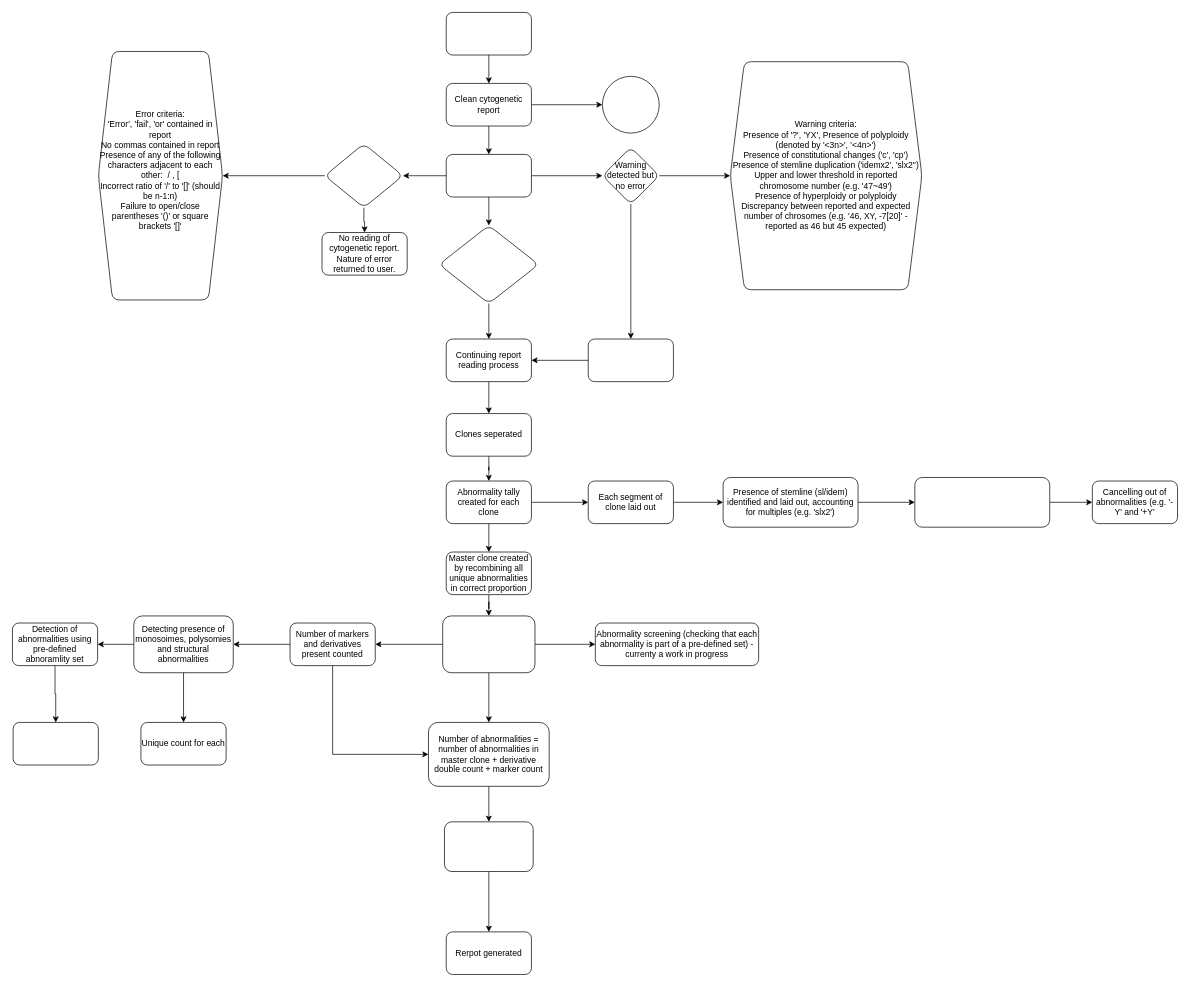
This 1190x987 diagram has some shape labels left out. Each missing label, with the centre of its shape:
"Check for errors and warnings" goes at pixel 488 175.
"Choose abnormality set (BJH 2021, ELN2022)" goes at pixel 488 33.
"Classification of each abnormality in master clone" goes at pixel 488 644.
"Comparison with FISH results (FISH results overrule)" goes at pixel 488 846.
"Error detected" goes at pixel 363 175.
"Multi-translocations parsed and treated as pairs" goes at pixel 55 743.
"No error or warning detected" goes at pixel 488 264.
"Normal segments (e.g. 'XX', '46') removed, leaving only abnormalities" goes at pixel 982 502.
"Reading of report continues. Warning message printed with result" goes at pixel 630 360.
"Removing whitespaces" goes at pixel 630 104.
